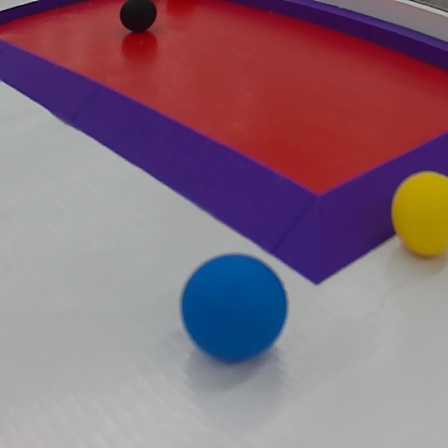black: (119, 0, 161, 34)
blue: (176, 246, 295, 368)
red_aim: (0, 0, 443, 292)
yellow: (388, 168, 448, 261)
